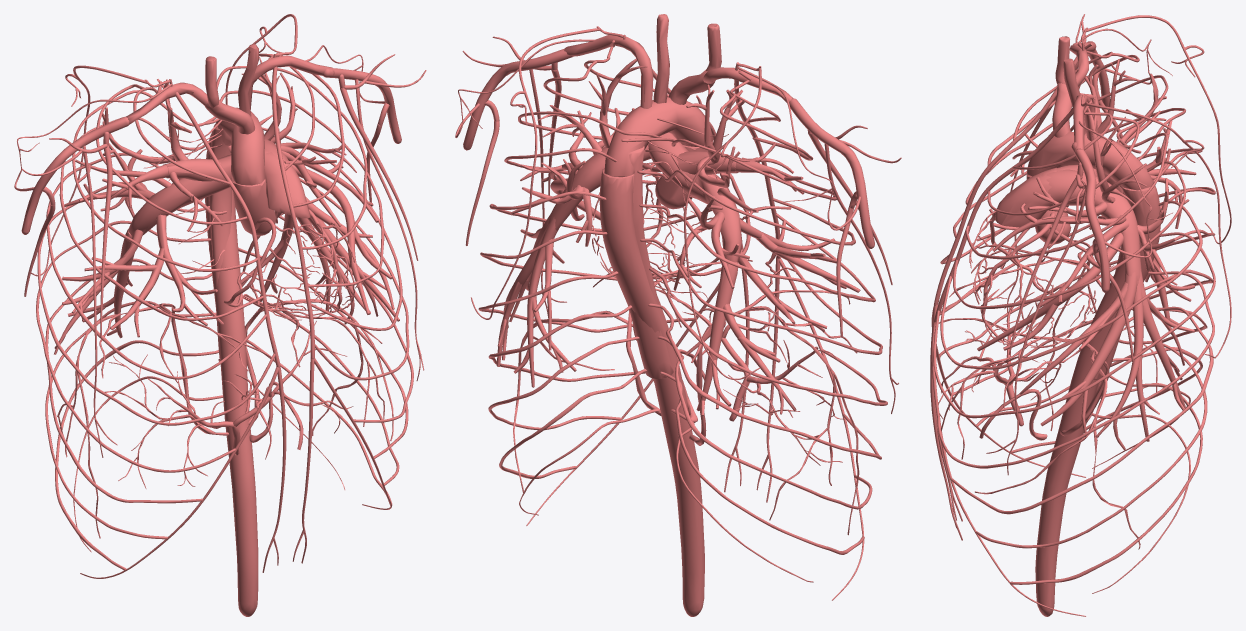
File: arteres-thorax.lo.glb
3 renders of one model, left to right at view 1: azimuth 30°, elevation 25°; view 2: azimuth 150°, elevation 25°; view 3: azimuth 270°, elevation 25°, orthographic. The views are drawn at different scales.
Visible parts, largest first — view 1: FJ1961, FJ3427, FJ1975, FJ3019, FJ3411, FJ2966, FJ1931, FJ2268, FJ1972, FJ1937, FJ3413, FJ2896 (+30 smaller); view 2: FJ1961, FJ3427, FJ1975, FJ3411, FJ1931, FJ3019, FJ2268, FJ3479, FJ2216, FJ2924, FJ3008, FJ2232 (+23 smaller); view 3: FJ1975, FJ3427, FJ1961, FJ3411, FJ2924, FJ2966, FJ2883, FJ2216, FJ1937, FJ2896, FJ1972, FJ2921 (+26 smaller).
Boxes of the visible parts, bbox=[...] form: FJ1961: bbox=[36, 90, 275, 570]; FJ3427: bbox=[205, 138, 258, 616]; FJ1975: bbox=[205, 66, 413, 505]; FJ3019: bbox=[128, 150, 270, 236]; FJ3411: bbox=[210, 107, 265, 185]; FJ2966: bbox=[264, 152, 310, 218]; FJ1931: bbox=[209, 123, 231, 358]; FJ2268: bbox=[21, 117, 129, 234]; FJ1972: bbox=[272, 66, 314, 358]; FJ1937: bbox=[175, 92, 280, 367]; FJ3413: bbox=[231, 178, 276, 236]; FJ2896: bbox=[292, 164, 370, 314]; FJ1961: bbox=[621, 138, 887, 582]; FJ3427: bbox=[599, 167, 704, 616]; FJ1975: bbox=[478, 111, 719, 515]; FJ3411: bbox=[604, 97, 713, 177]; FJ1931: bbox=[628, 146, 673, 378]; FJ3019: bbox=[648, 132, 742, 262]; FJ2268: bbox=[789, 98, 874, 248]; FJ3479: bbox=[564, 35, 653, 108]; FJ2216: bbox=[463, 48, 572, 150]; FJ2924: bbox=[547, 144, 650, 230]; FJ3008: bbox=[696, 262, 738, 410]; FJ2232: bbox=[471, 28, 600, 319]; FJ1975: bbox=[933, 132, 1215, 593]; FJ3427: bbox=[1035, 185, 1160, 616]; FJ1961: bbox=[939, 75, 1215, 468]; FJ3411: bbox=[1027, 132, 1153, 190]; FJ2924: bbox=[1041, 169, 1141, 284]; FJ2966: bbox=[995, 167, 1056, 227]; FJ2883: bbox=[1040, 268, 1137, 426]; FJ2216: bbox=[1071, 142, 1109, 292]; FJ1937: bbox=[934, 56, 1077, 305]; FJ2896: bbox=[977, 232, 1123, 351]; FJ1972: bbox=[934, 107, 1073, 322]; FJ2921: bbox=[1095, 279, 1143, 437].
Bounding box in the file's own units: 0.3235 × 0.4268 × 0.2065.
